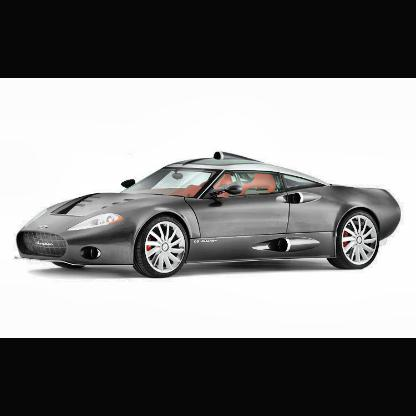Spyker C8 Coupe 2009: (18, 151, 402, 278)
